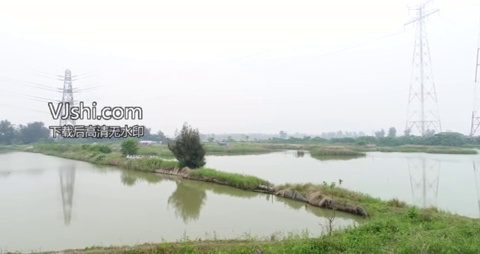tower_body: (402, 4, 449, 133)
tower_foot: (405, 108, 444, 131)
tower_head: (405, 7, 445, 25)
